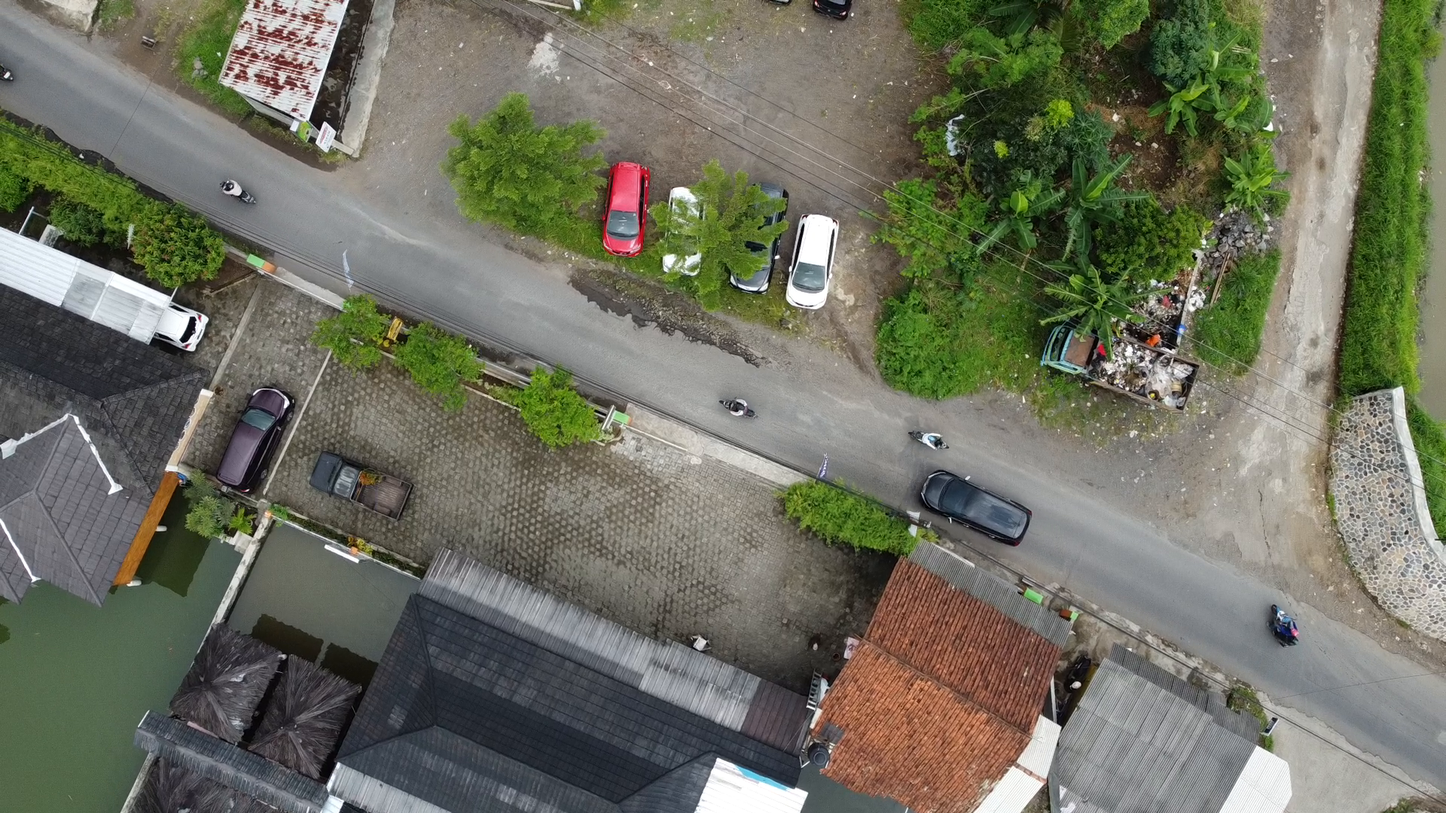mobil: (203, 379, 305, 492), (911, 461, 1039, 550), (297, 447, 423, 525), (728, 166, 792, 302), (660, 174, 719, 278), (599, 154, 654, 263), (793, 208, 841, 329), (138, 297, 213, 358)
